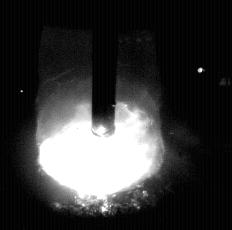arame: (92, 0, 116, 136)
poca: (37, 0, 166, 230)
